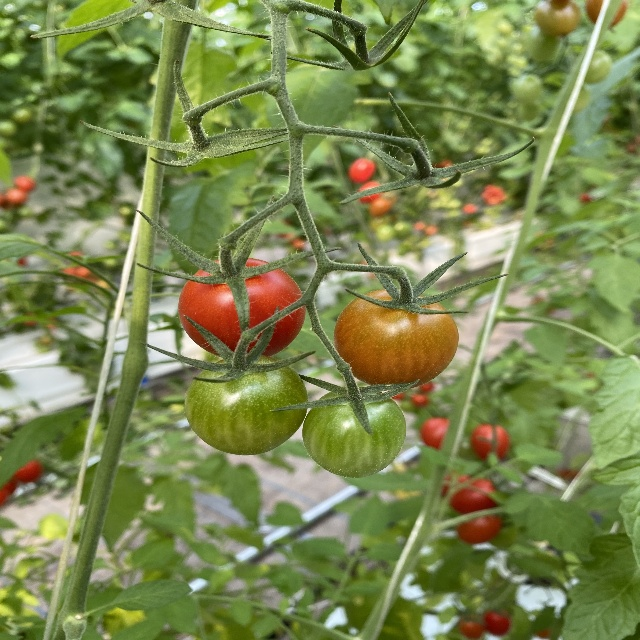l_fully_ripened: (177, 258, 305, 358)
l_green: (184, 354, 309, 455), (303, 386, 409, 478)
l_half_ripened: (333, 288, 458, 389)
